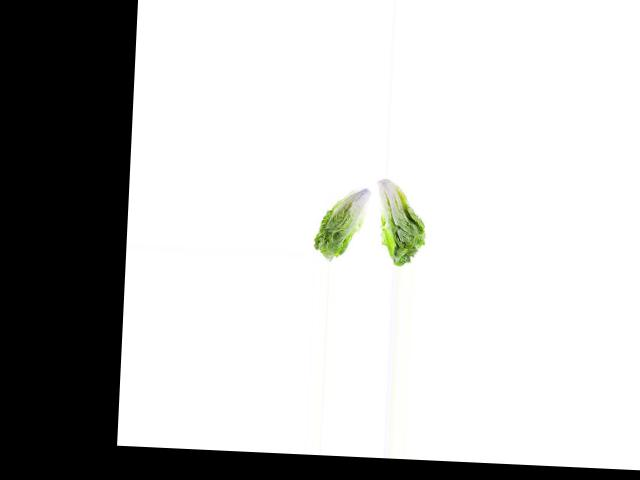lettuce: (311, 177, 372, 261)
